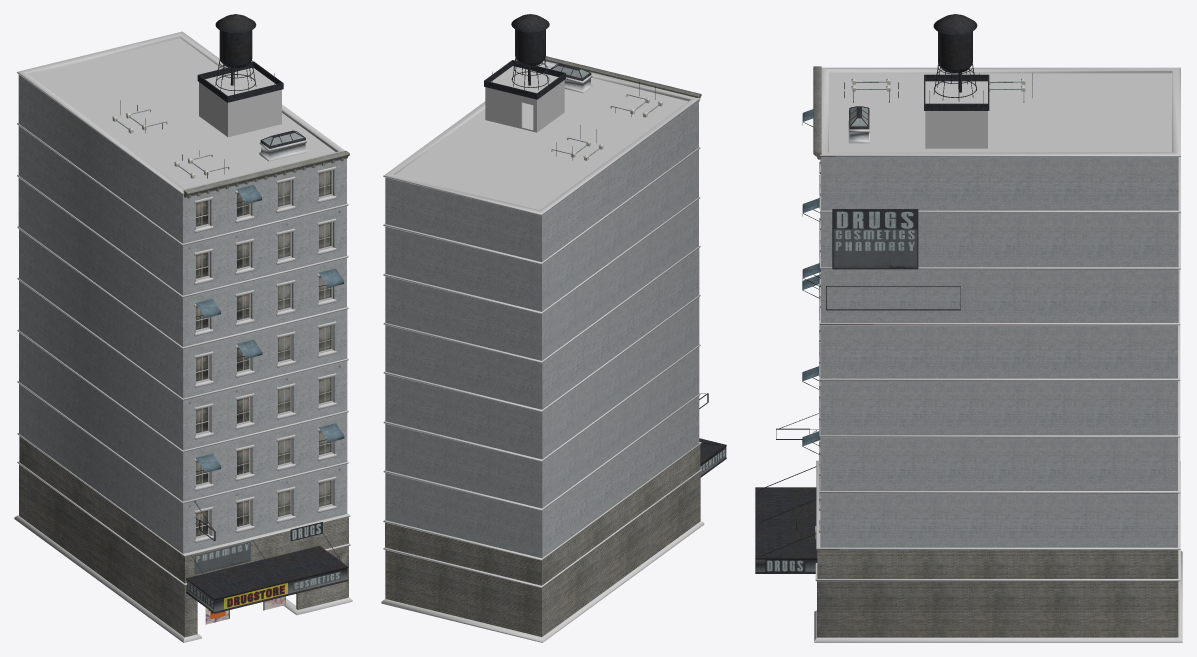
Rendered from u2NEBuild6.gltf.
3 renders of one model, left to right at view 1: azimuth 30°, elevation 25°; view 2: azimuth 150°, elevation 25°; view 3: azimuth 270°, elevation 25°, orthographic. The views are drawn at different scales.
Visible parts, largest first — view 1: u2NEBuild6; view 2: u2NEBuild6; view 3: u2NEBuild6.
Boxes of the visible parts, bbox=[...] form: u2NEBuild6: bbox=[14, 14, 352, 642]; u2NEBuild6: bbox=[381, 14, 726, 642]; u2NEBuild6: bbox=[755, 14, 1182, 642].
Bounding box in the file's own units: 5.05 × 15.8 × 10.17.
